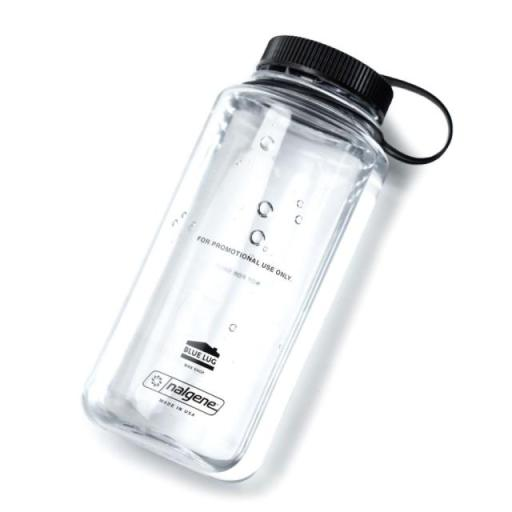bottle: (79, 32, 454, 485)
